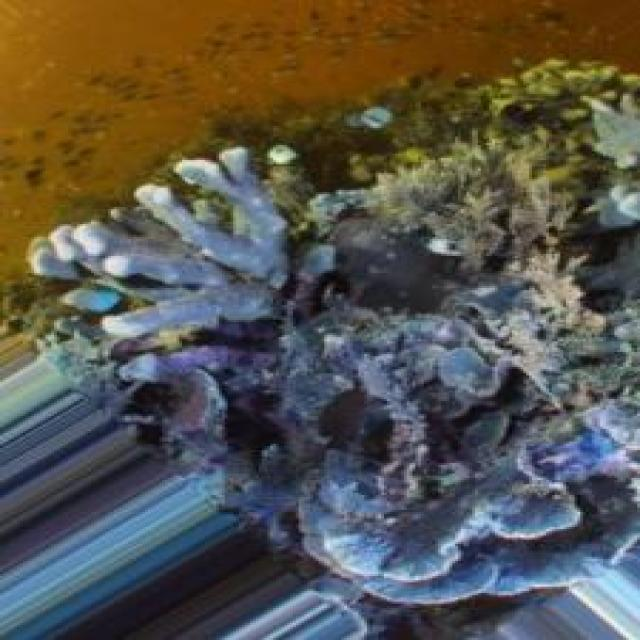Healthy: (32, 146, 640, 611)
